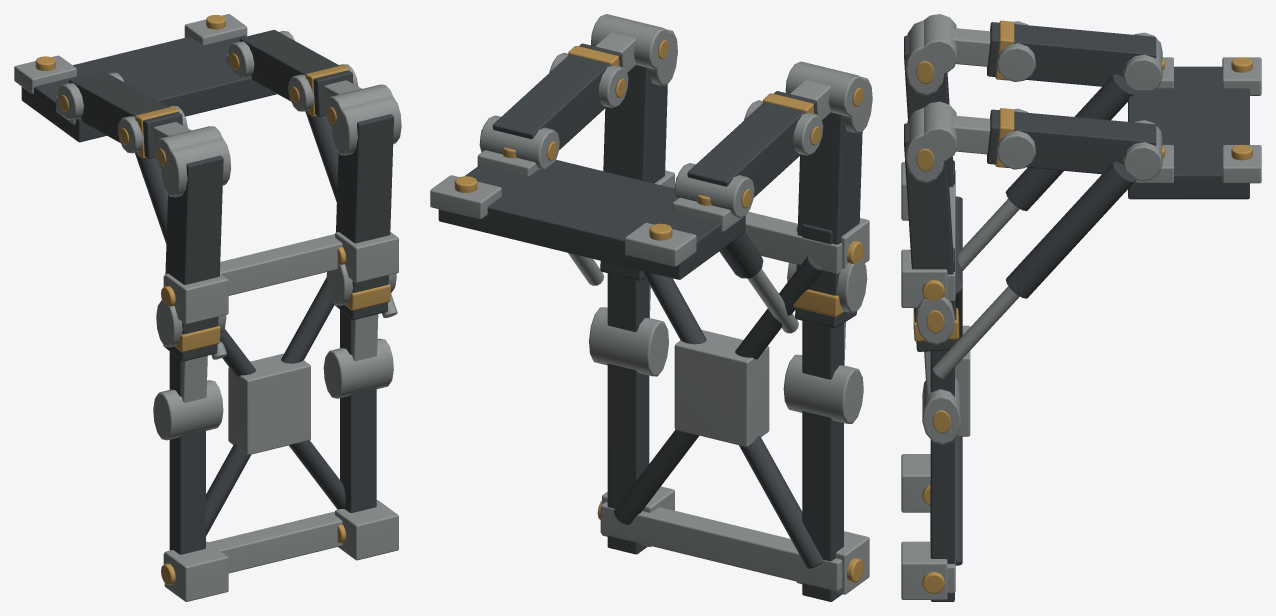
Rendered from ShieldRack.glb.
3 views of the same model, side by side, from view 1: azimuth 30°, elevation 25°; view 2: azimuth 150°, elevation 25°; view 3: azimuth 270°, elevation 25° (orthographic). The views are drawn at different scales.
Visible parts, largest first — view 1: Bolted saddle, Central armored hinge housing, Boxed load bearing sleeve.001, Boxed load bearing sleeve.003, Cradle vertical load spreader, Cradle vertical load spreader.001, Cross member, Cross member.001, Boxed load bearing sleeve, Boxed load bearing sleeve.002, Diagonal brace A, Clevis axle.005 (+24 smaller); view 2: Bolted saddle, Central armored hinge housing, Cradle vertical load spreader, Cross member, Cradle vertical load spreader.001, Boxed load bearing sleeve.001, Boxed load bearing sleeve.003, Boxed load bearing sleeve.002, Boxed load bearing sleeve, Diagonal brace A, Diagonal brace B, Clevis axle.011 (+24 smaller); view 3: Bolted saddle, Boxed load bearing sleeve, Boxed load bearing sleeve.002, Hydraulic barrel.001, Boxed load bearing sleeve.003, Cradle vertical load spreader.001, Hydraulic barrel, Four point locking jaw.002, Hydraulic chrome piston.001, Clevis axle.008, Clevis axle.011, Diagonal brace B (+21 smaller).
Part boxes in pixels (x1,y1,x2,y2): Bolted saddle: [21, 35, 277, 142]; Central armored hinge housing: [228, 353, 310, 455]; Boxed load bearing sleeve.001: [163, 155, 223, 361]; Boxed load bearing sleeve.003: [335, 114, 393, 319]; Cradle vertical load spreader: [169, 351, 205, 554]; Cradle vertical load spreader.001: [340, 310, 376, 512]; Cross member: [163, 511, 342, 573]; Cross member.001: [163, 234, 342, 295]; Boxed load bearing sleeve: [69, 71, 182, 158]; Boxed load bearing sleeve.002: [239, 30, 353, 116]; Diagonal brace A: [206, 277, 334, 535]; Clevis axle.005: [153, 380, 223, 440]; Bolted saddle: [438, 160, 745, 279]; Central armored hinge housing: [674, 330, 769, 446]; Cradle vertical load spreader: [802, 224, 843, 601]; Cross member: [600, 502, 842, 591]; Cradle vertical load spreader.001: [607, 273, 649, 554]; Boxed load bearing sleeve.001: [795, 112, 862, 328]; Boxed load bearing sleeve.003: [600, 65, 667, 280]; Boxed load bearing sleeve.002: [492, 43, 622, 149]; Boxed load bearing sleeve: [687, 91, 817, 197]; Diagonal brace A: [642, 271, 823, 568]; Diagonal brace B: [614, 256, 823, 524]; Clevis axle.011: [589, 307, 668, 376]; Bolted saddle: [1128, 66, 1249, 199]; Boxed load bearing sleeve: [987, 22, 1156, 86]; Boxed load bearing sleeve.002: [987, 109, 1156, 174]; Hydraulic barrel.001: [1006, 161, 1135, 298]; Boxed load bearing sleeve.003: [904, 123, 958, 351]; Cradle vertical load spreader.001: [930, 248, 954, 601]; Hydraulic barrel: [1005, 74, 1134, 211]; Four point locking jaw.002: [901, 541, 947, 599]; Hydraulic chrome piston.001: [932, 286, 1019, 378]; Clevis axle.008: [920, 101, 957, 161]; Clevis axle.011: [922, 378, 961, 444]; Diagonal brace B: [955, 196, 962, 565].
Size of the model in its own units: 1.28 by 2.31 by 1.57.
